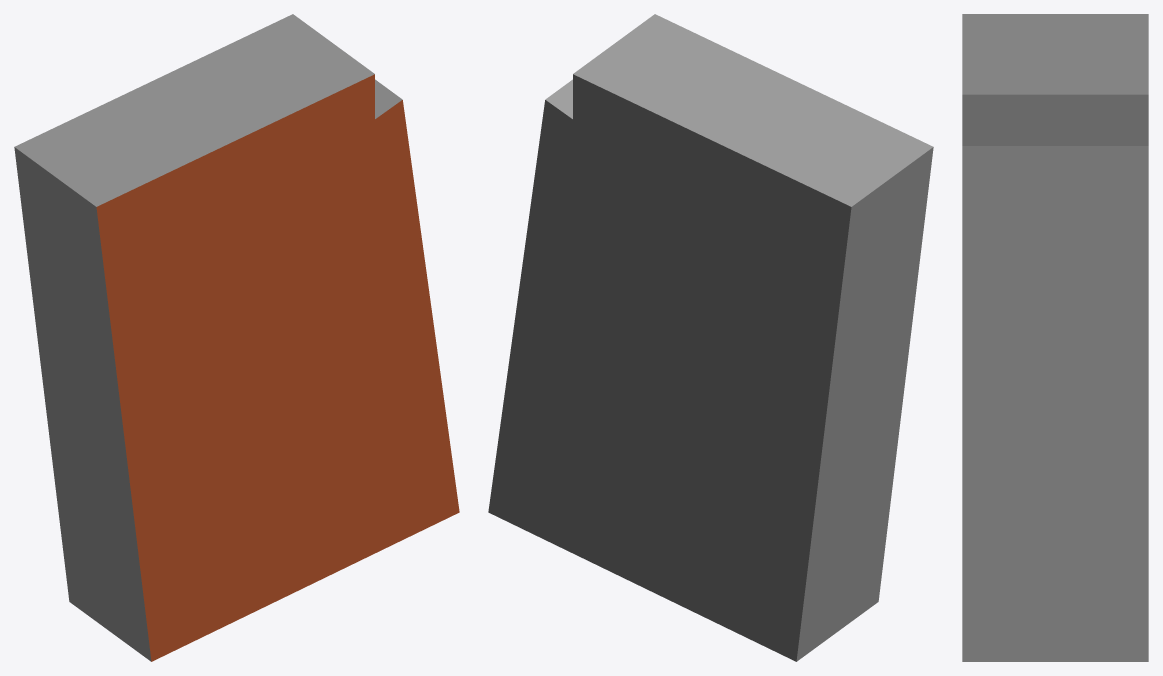
Rendered from construction_0315_assumed_A_Casa_h6m.obj.
3 views of the same model, side by side, from view 1: azimuth 30°, elevation 25°; view 2: azimuth 150°, elevation 25°; view 3: azimuth 270°, elevation 25° (orthographic). The views are drawn at different scales.
Visible parts, largest first — view 1: construction_0315_assumed_A_Casa; view 2: construction_0315_assumed_A_Casa; view 3: construction_0315_assumed_A_Casa.
Boxes of the visible parts, x1,y1,x2,y2 form: construction_0315_assumed_A_Casa: [14, 14, 459, 661]; construction_0315_assumed_A_Casa: [488, 14, 933, 661]; construction_0315_assumed_A_Casa: [962, 14, 1148, 661].
Bounding box in the file's own units: 15.32 × 21.49 × 6.
